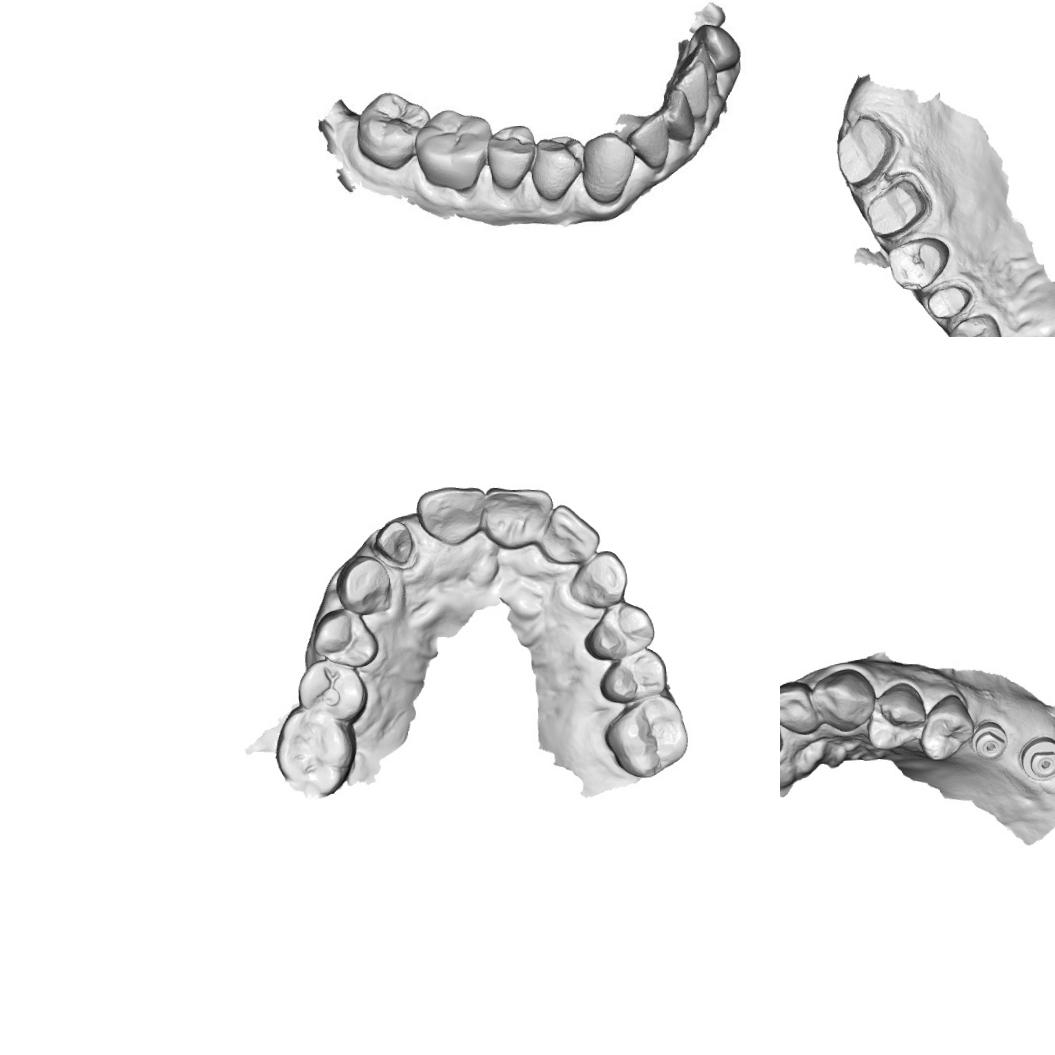canine: (810, 666, 876, 736), (564, 546, 634, 611), (331, 551, 394, 618), (580, 132, 638, 204), (944, 311, 1003, 337)
crown: (832, 110, 902, 188), (862, 174, 932, 239), (918, 276, 975, 324), (370, 516, 419, 568)
implant: (970, 717, 1008, 761), (1022, 735, 1055, 782)
incisor: (481, 481, 556, 553), (415, 482, 489, 548), (542, 500, 602, 568), (624, 112, 674, 170), (676, 64, 720, 124), (780, 678, 818, 741), (656, 88, 698, 142), (692, 25, 734, 70)
molar: (269, 701, 359, 798), (600, 692, 692, 782), (350, 86, 430, 174), (418, 106, 492, 196)
premolar: (863, 678, 928, 760), (294, 657, 370, 727), (307, 605, 382, 671), (582, 598, 658, 662), (595, 646, 671, 705), (916, 693, 976, 765), (884, 233, 952, 294), (480, 120, 536, 189), (529, 132, 582, 202)
